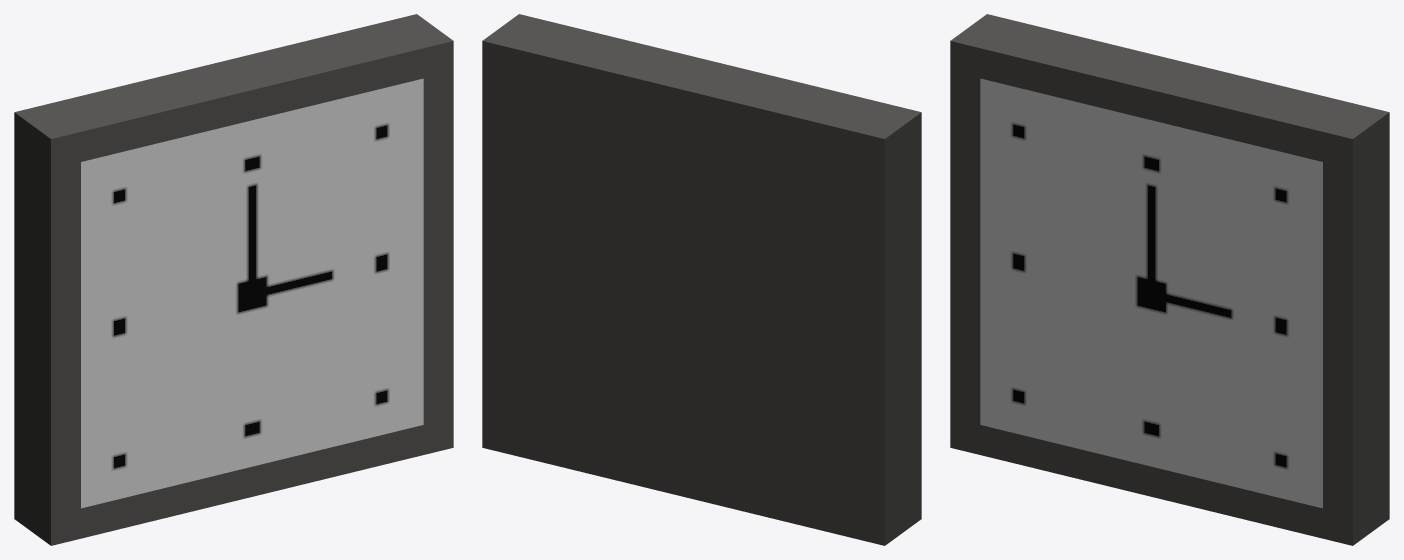
The model's file is SO_Clock.fbx.
3 renders of one model, left to right at view 1: azimuth 30°, elevation 25°; view 2: azimuth 150°, elevation 25°; view 3: azimuth 330°, elevation 25°, orthographic.
Parts seen in each view (by area): view 1: SO_Clock; view 2: SO_Clock; view 3: SO_Clock.
Boxes of the visible parts, box(x1,y1,x2,y2) form: SO_Clock: box(14, 14, 453, 545); SO_Clock: box(482, 14, 921, 545); SO_Clock: box(950, 14, 1389, 545).
Size of the model in its own units: 0.8007 by 0.7732 by 0.1268.
